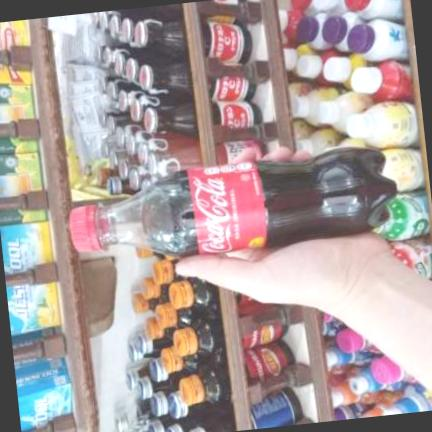container: (69, 147, 395, 255)
fluid: (156, 147, 395, 257)
fluid-surface: (140, 177, 178, 254)
